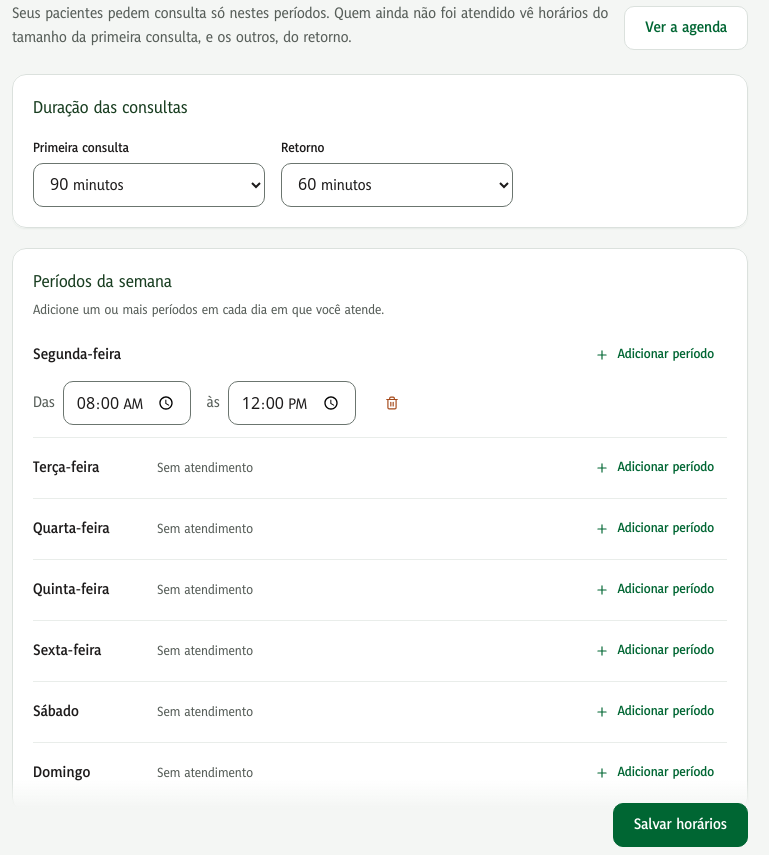
Test: AgendaDisponibilidade › o erro do periodo q vem da api aparece na linha dele
Click the button "Salvar horários" at (680,825), box left=613, top=803, right=748, bottom=847
(page scrolled)
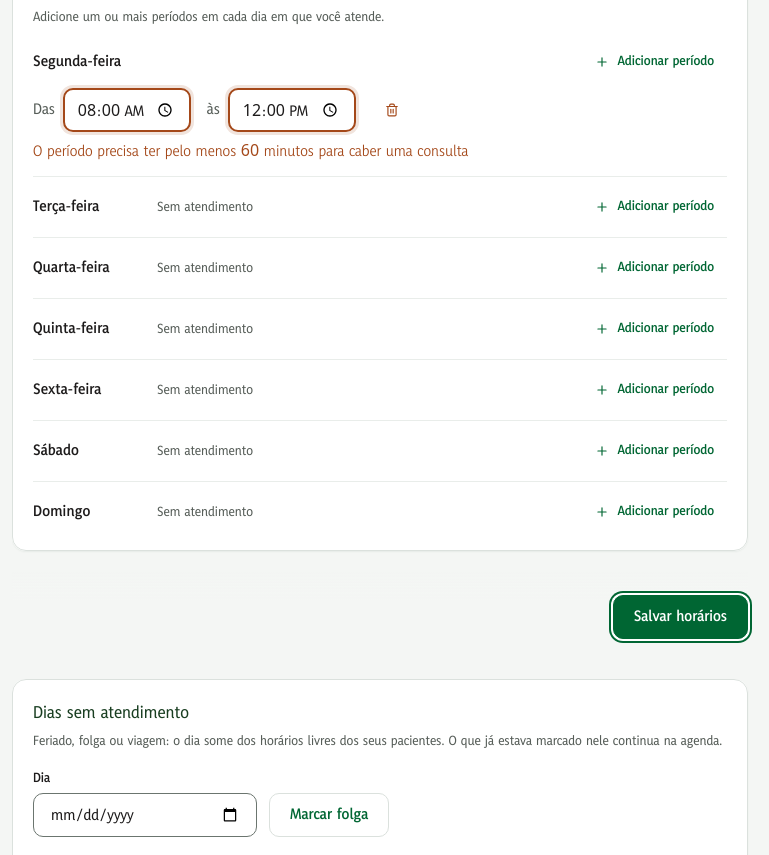
Now the text "O período precisa ter pelo menos 60 minutos para caber uma consulta" is shown, box left=33, top=141, right=468, bottom=162
